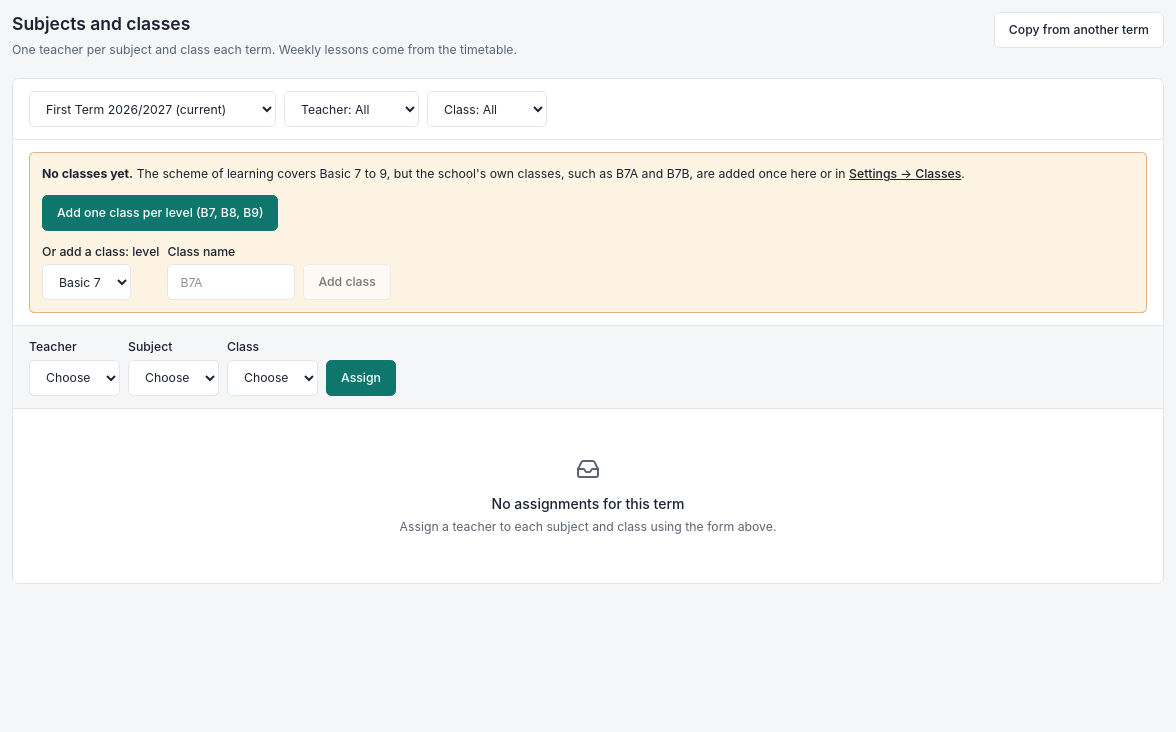
Test case: assigning a teacher before any class exists › explains why the class list is empty and adds a class per level in one click
Expected: the text "No classes yet." is shown, [42,166,133,181]
Click the button "Add one class per level (B7, B8, B9)" at {"x": 160, "y": 212}, box [42,194,278,230]
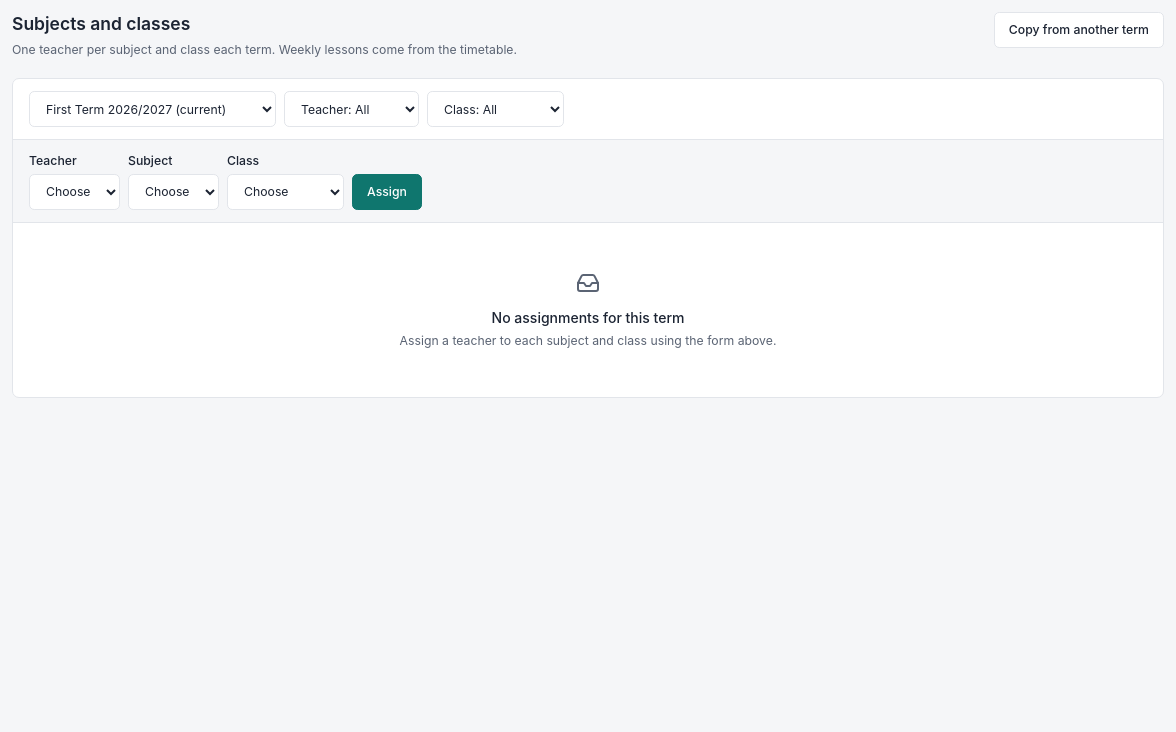
Now the text "No classes yet" is gone
